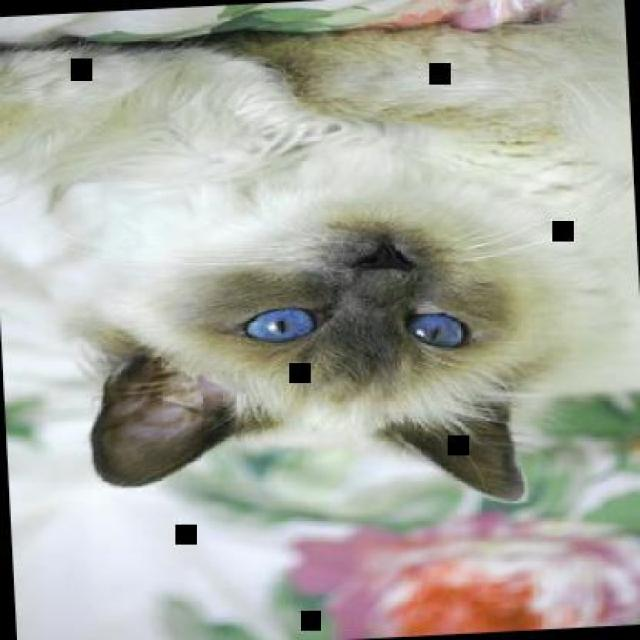cat: (0, 0, 638, 531)
